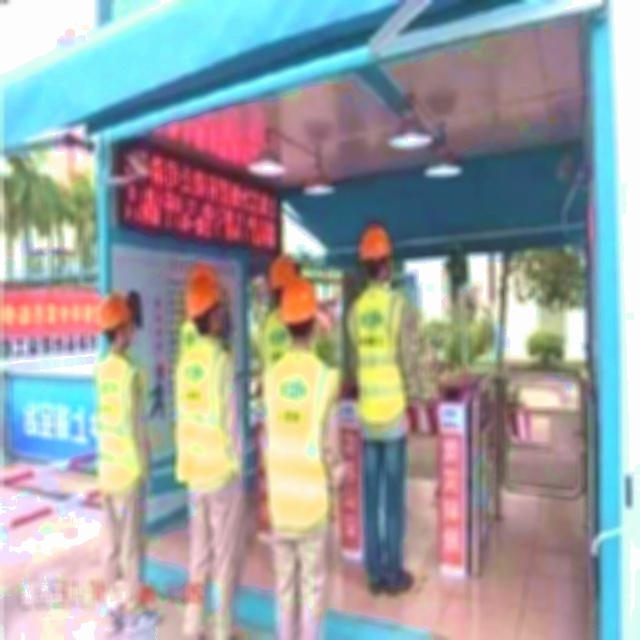Con_Chaleco: (259, 357, 341, 533), (173, 335, 235, 484), (348, 285, 405, 420), (93, 353, 146, 487)
